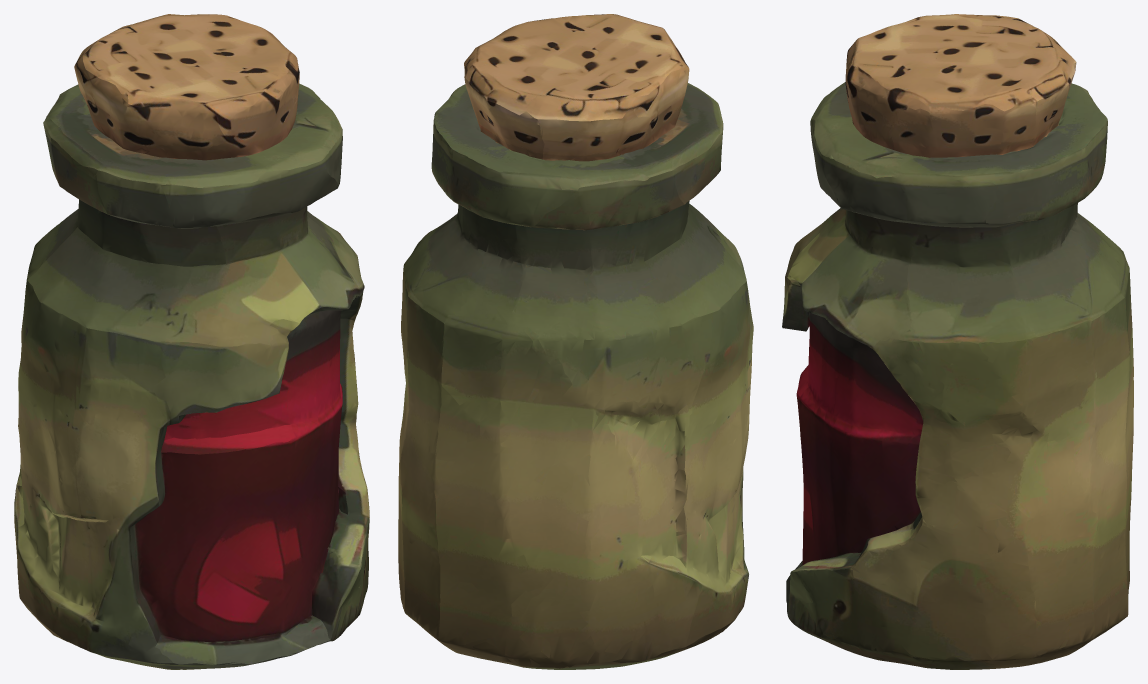
Rendered from item_minor_blood_essence.glb.
The picture shows the model from 3 angles, left to right: view 1: azimuth 30°, elevation 25°; view 2: azimuth 150°, elevation 25°; view 3: azimuth 270°, elevation 25°; orthographic projection.
Visible parts, largest first — view 1: item_minor_blood_essence; view 2: item_minor_blood_essence; view 3: item_minor_blood_essence.
Part boxes in pixels (left/top/right/bottom): item_minor_blood_essence: left=14, top=14, right=369, bottom=669; item_minor_blood_essence: left=398, top=14, right=753, bottom=669; item_minor_blood_essence: left=782, top=14, right=1133, bottom=669.
Bounding box in the file's own units: 0.0802 × 0.14 × 0.0806.
1 material, 1 textured.
